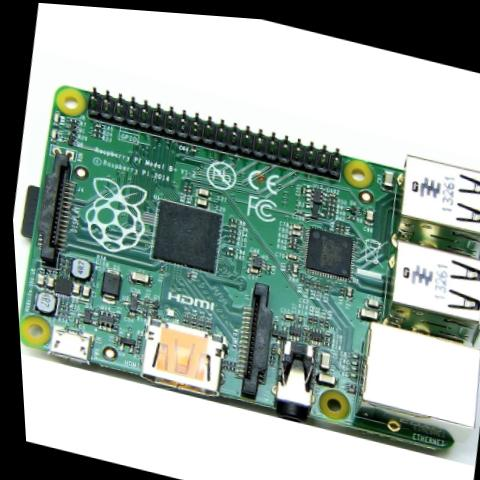Raspberry-Pi-1-Model-B-: (2, 51, 480, 461)
